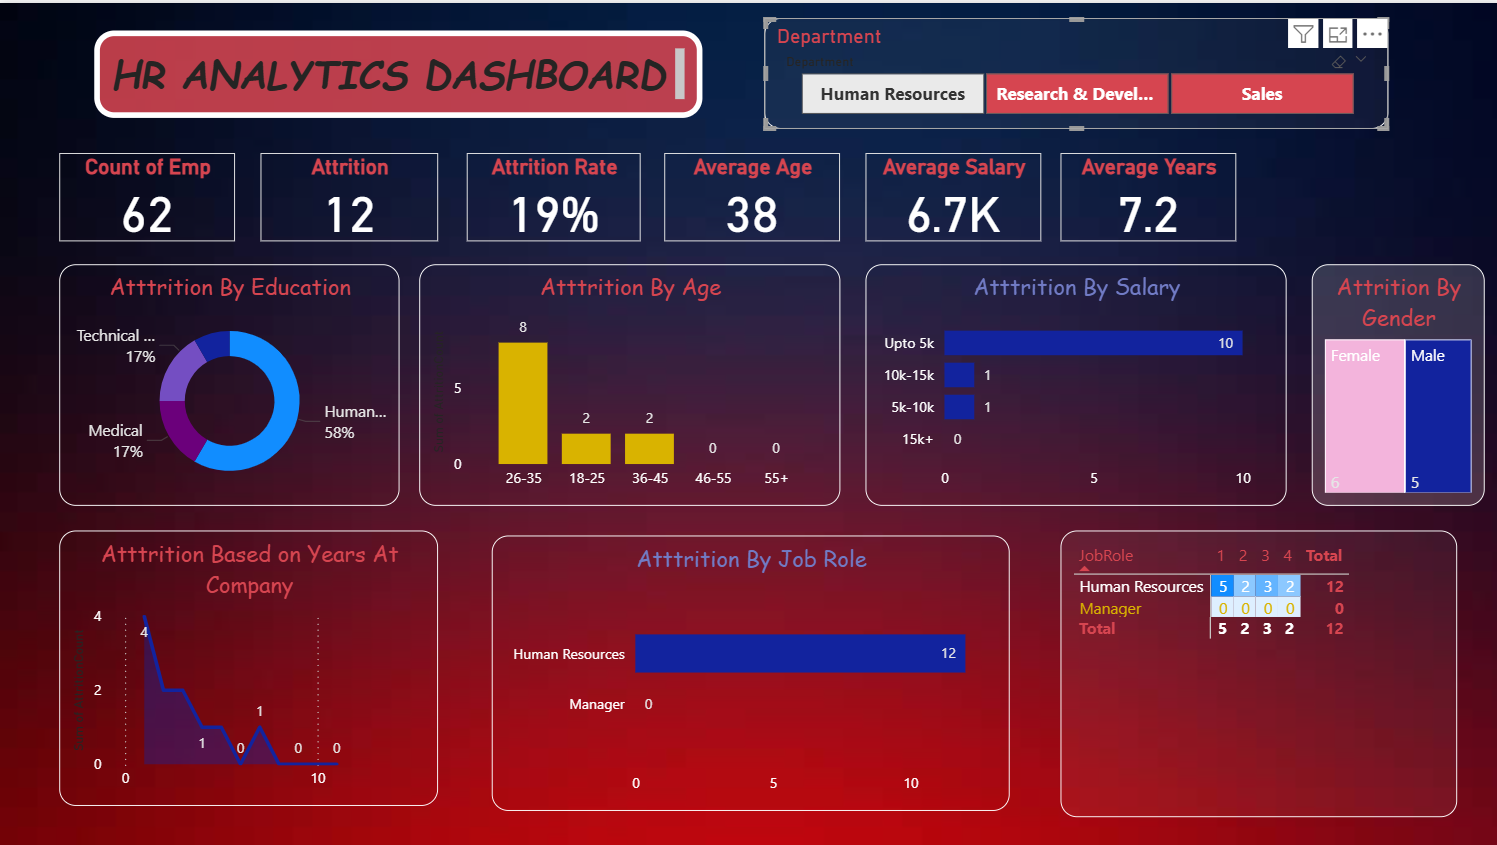

This screenshot's page, from the dashboard's own definition file:
{"tool":"powerbi","page":{"name":"Page 1","canvas":[1280,720],"ordinal":0},"visuals":[{"type":"card","title":"Count of Emp","fields":{"Values":["CountNonNull(HR_Analytics.EmpID)"]},"box":[52.1,127.6,149.6,75.5],"z":0},{"type":"card","title":"Attrition","fields":{"Values":["Sum(HR_Analytics.AttritionCount)","select"]},"box":[223.7,127.6,150.9,75.5],"z":1000},{"type":"card","title":"Attrition Rate","fields":{"Values":["HR_Analytics.AttritionRate"]},"box":[399.3,127.6,148.2,75.5],"z":2000},{"type":"card","title":"Average Age","fields":{"Values":["Avg(HR_Analytics.Age)"]},"box":[566.7,127.6,149.6,75.5],"z":3000},{"type":"card","title":"Average Years","fields":{"Values":["Avg(HR_Analytics.YearsAtCompany)"]},"box":[904.3,127.6,149.6,75.5],"z":4000},{"type":"card","title":"Average Salary","fields":{"Values":["Avg(HR_Analytics.MonthlyIncome)"]},"box":[738.3,127.6,149.6,75.5],"z":5000},{"type":"donutChart","title":"Atttrition By Education","fields":{"Category":["HR_Analytics.EducationField"],"Y":["Sum(HR_Analytics.AttritionCount)"]},"box":[52.1,222.3,289.5,205.8],"z":6000},{"type":"columnChart","title":"Atttrition By Age","fields":{"Category":["HR_Analytics.AgeGroup"],"Y":["Sum(HR_Analytics.AttritionCount)"]},"box":[358.1,222.3,358.1,205.8],"z":7000},{"type":"pivotTable","fields":{"Rows":["HR_Analytics.JobRole"],"Columns":["HR_Analytics.JobSatisfaction"],"Values":["Sum(HR_Analytics.AttritionCount)"]},"box":[904.3,448.7,337.6,244.3],"z":8000},{"type":"barChart","title":"Atttrition By Salary","fields":{"Category":["HR_Analytics.SalarySlab"],"Y":["Sum(HR_Analytics.AttritionCount)"]},"box":[738.3,222.3,358.1,205.8],"z":9000},{"type":"barChart","title":"Atttrition By Job Role","fields":{"Category":["HR_Analytics.JobRole"],"Y":["Sum(HR_Analytics.AttritionCount)"]},"box":[419.9,452.8,440.5,234.6],"z":10000},{"type":"areaChart","title":"Atttrition Based on Years At Company","fields":{"Category":["HR_Analytics.YearsAtCompany"],"Y":["Sum(HR_Analytics.AttritionCount)"]},"box":[52.1,448.7,322.5,234.6],"z":11000},{"type":"treemap","title":"Attrition By Gender","fields":{"Group":["HR_Analytics.Gender"],"Values":["Sum(HR_Analytics.AttritionCount)"]},"box":[1118.4,222.3,146.8,205.8],"z":12000},{"type":"slicer","title":"Department","fields":{"Values":["HR_Analytics.Department"]},"box":[651.8,12.3,531,94.7],"z":13000},{"type":"textbox","box":[82.3,23.3,517.3,74.1],"z":13001}]}

Visuals, with their boxes in screenshot pixels (x1, y1, x2, y2), scaled from the page's 1280x720 canvas onto the 1497x845 screenshot:
"Count of Emp" card: <box>61,150,236,238</box>
"Attrition" card: <box>262,150,438,238</box>
"Attrition Rate" card: <box>467,150,640,238</box>
"Average Age" card: <box>663,150,838,238</box>
"Average Years" card: <box>1058,150,1233,238</box>
"Average Salary" card: <box>863,150,1038,238</box>
"Atttrition By Education" donutChart: <box>61,261,400,502</box>
"Atttrition By Age" columnChart: <box>419,261,838,502</box>
pivotTable - HR_Analytics.JobRole x HR_Analytics.JobSatisfaction: <box>1058,527,1452,813</box>
"Atttrition By Salary" barChart: <box>863,261,1282,502</box>
"Atttrition By Job Role" barChart: <box>491,531,1006,807</box>
"Atttrition Based on Years At Company" areaChart: <box>61,527,438,802</box>
"Attrition By Gender" treemap: <box>1308,261,1480,502</box>
"Department" slicer: <box>762,14,1383,126</box>
textbox: <box>96,27,701,114</box>
